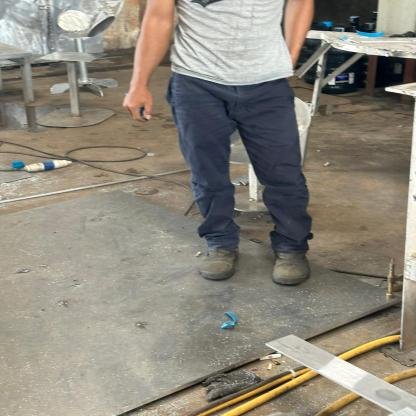bota: (260, 232, 322, 294), (194, 233, 248, 291)
